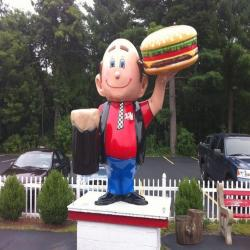burger: (133, 20, 207, 82)
